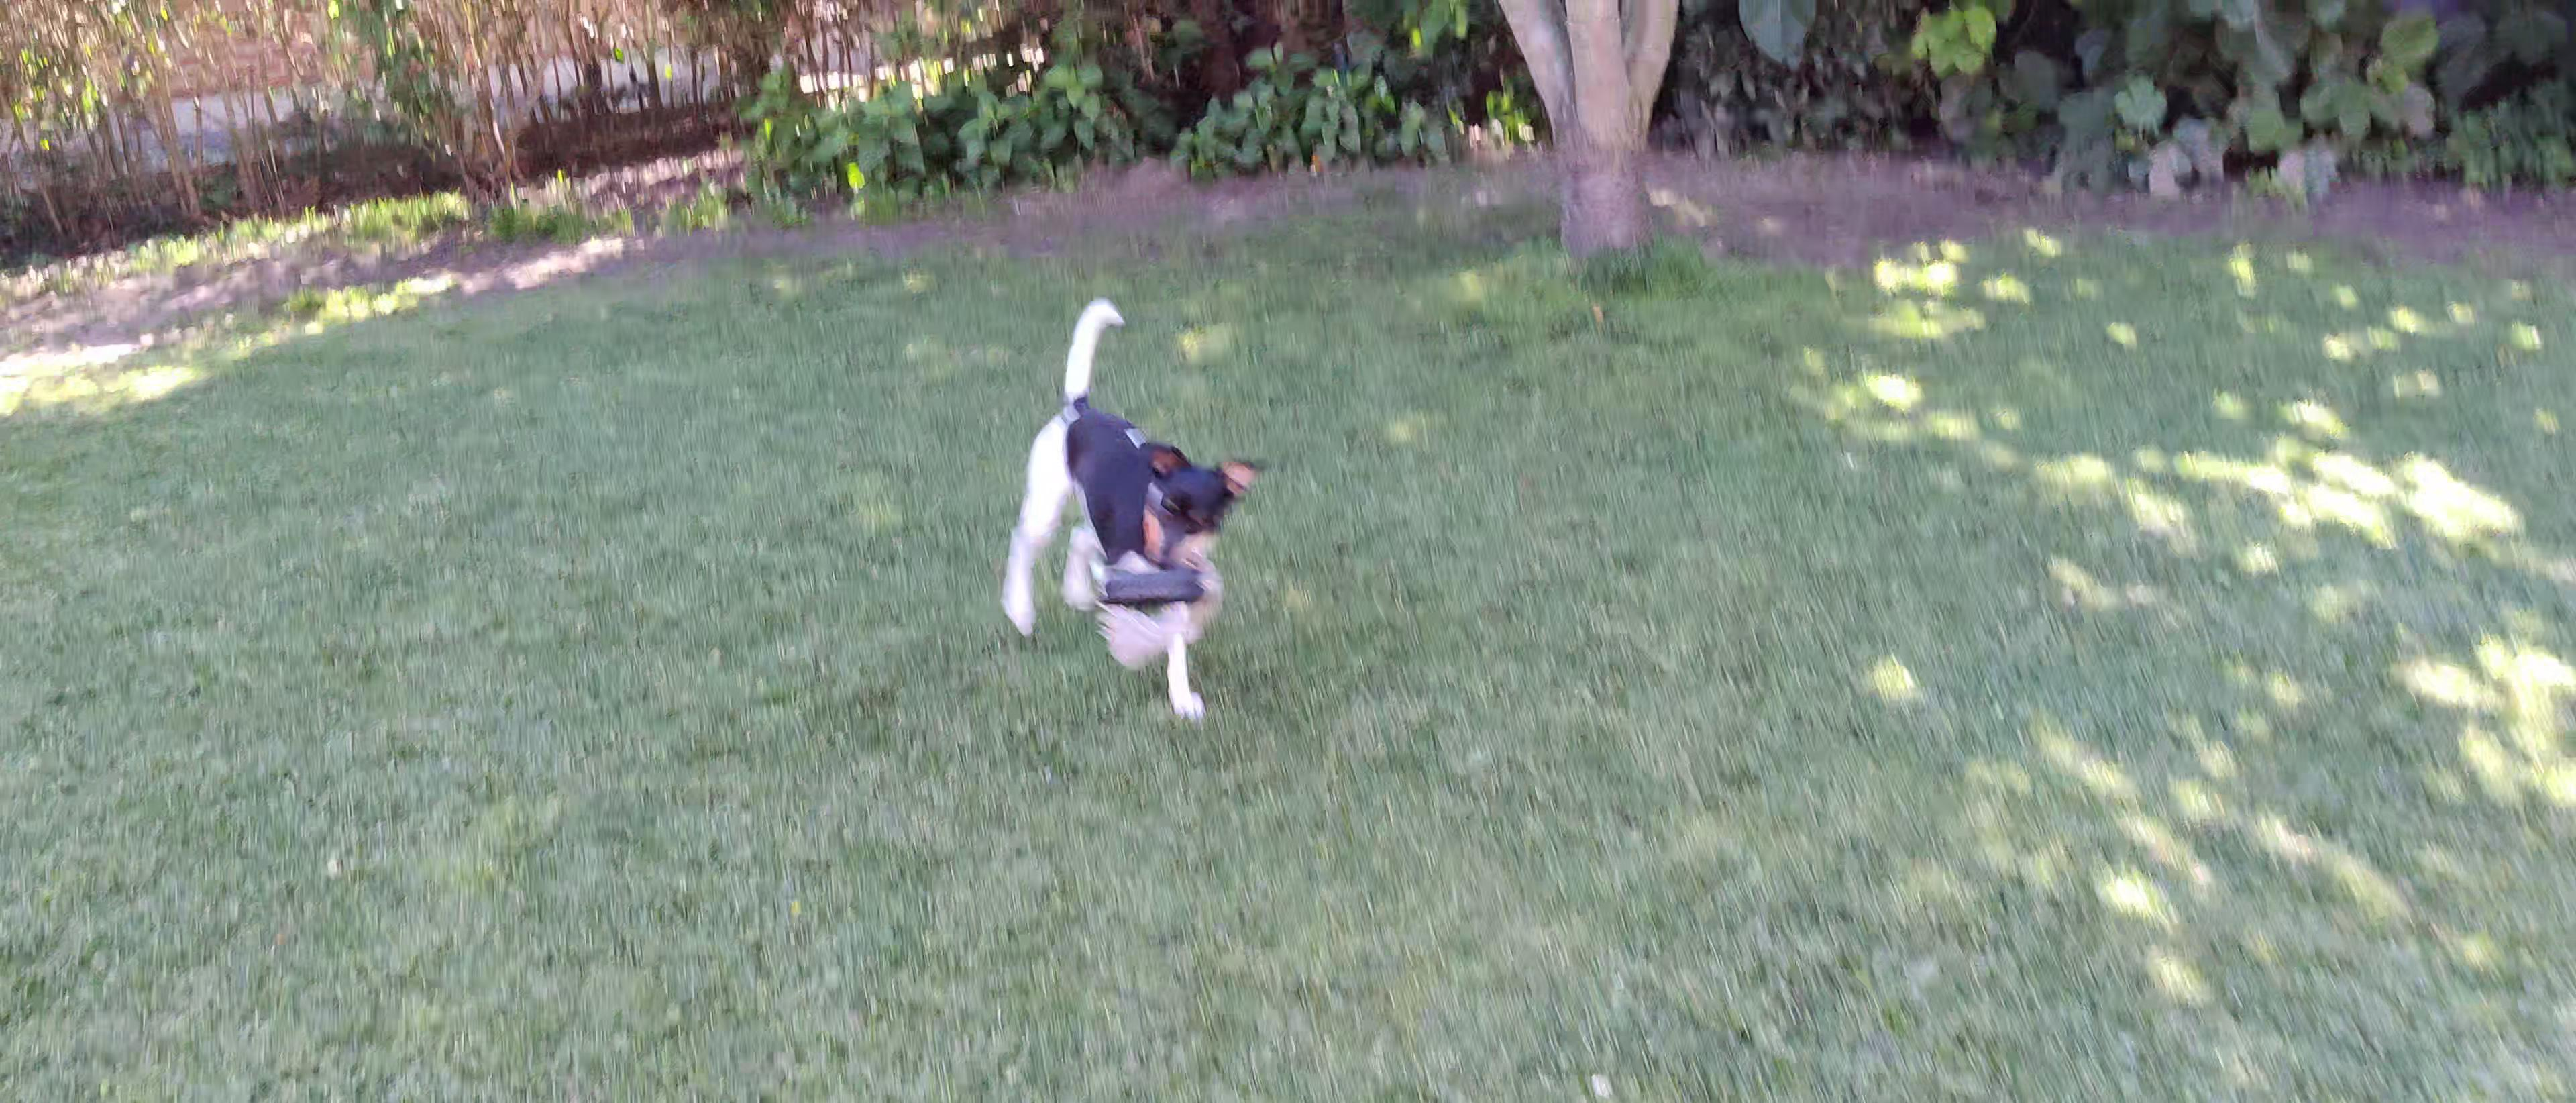Dog: (996, 289, 1278, 733)
